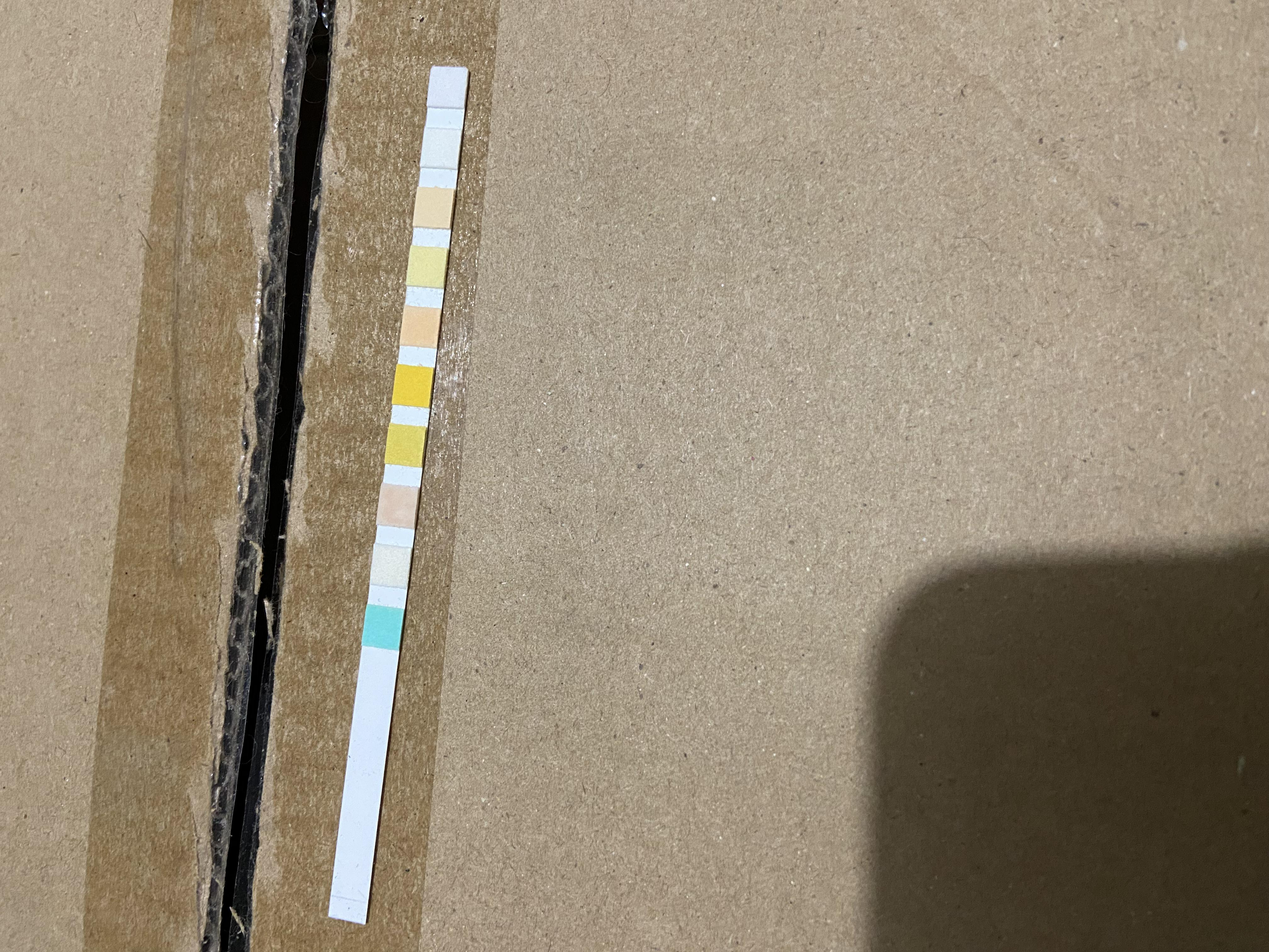Bilirubin: (375, 547, 407, 584)
Blood: (397, 367, 430, 405)
Glucose: (367, 607, 399, 647)
Ketone: (381, 486, 416, 525)
Leukocytes: (432, 69, 465, 105)
Nitrite: (424, 131, 458, 167)
Protein: (410, 249, 444, 286)
SpGravity: (389, 427, 422, 464)
Urobilinogen: (417, 190, 451, 228)
pH: (404, 308, 438, 345)
strip: (329, 66, 469, 924)
